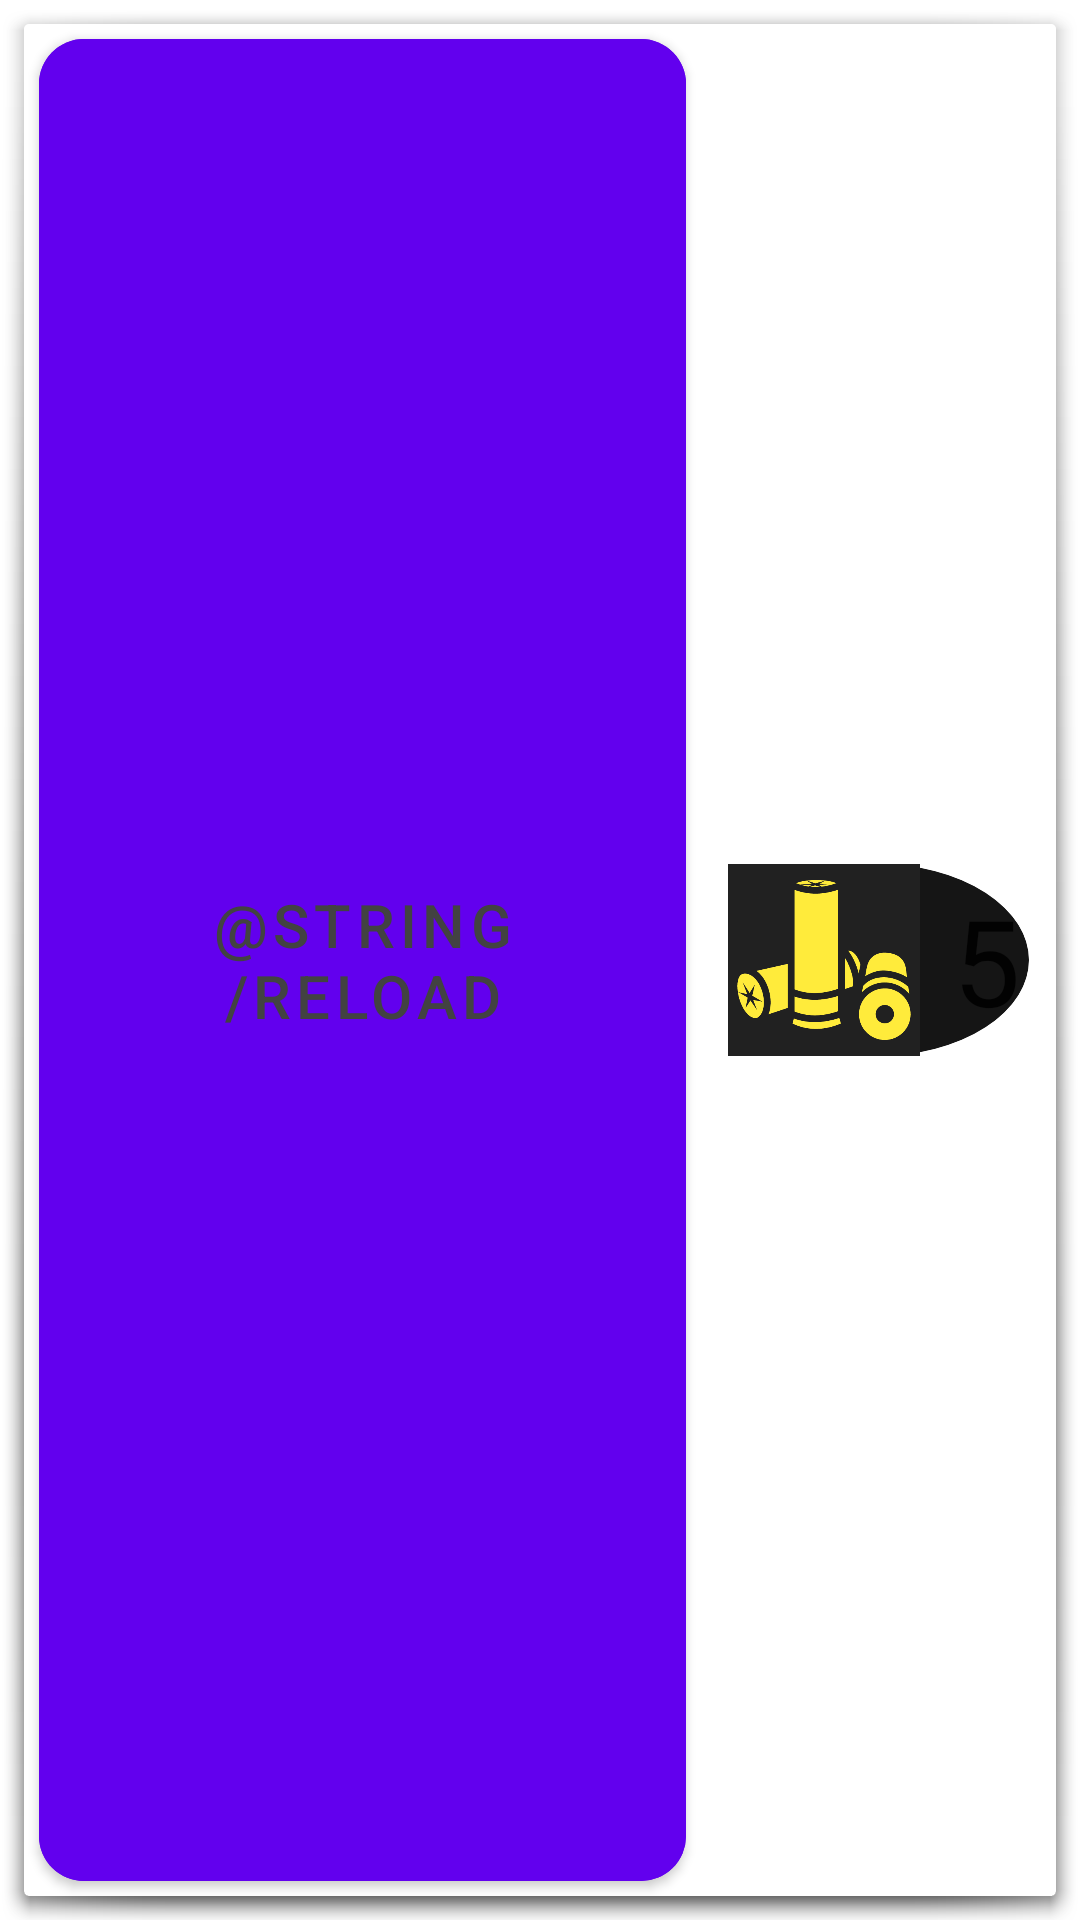

Icons on this 1080×1920 Android screen, each with its box as (x1, y1, x2, y2):
shotgun rounds: (728, 864, 920, 1056)
